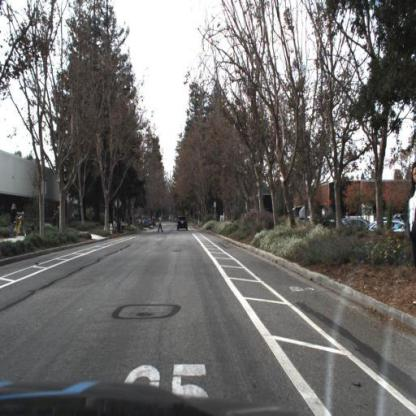biker: (10, 203, 29, 239)
car: (175, 213, 191, 234)
pedestrian: (410, 161, 416, 307), (158, 214, 165, 235)
